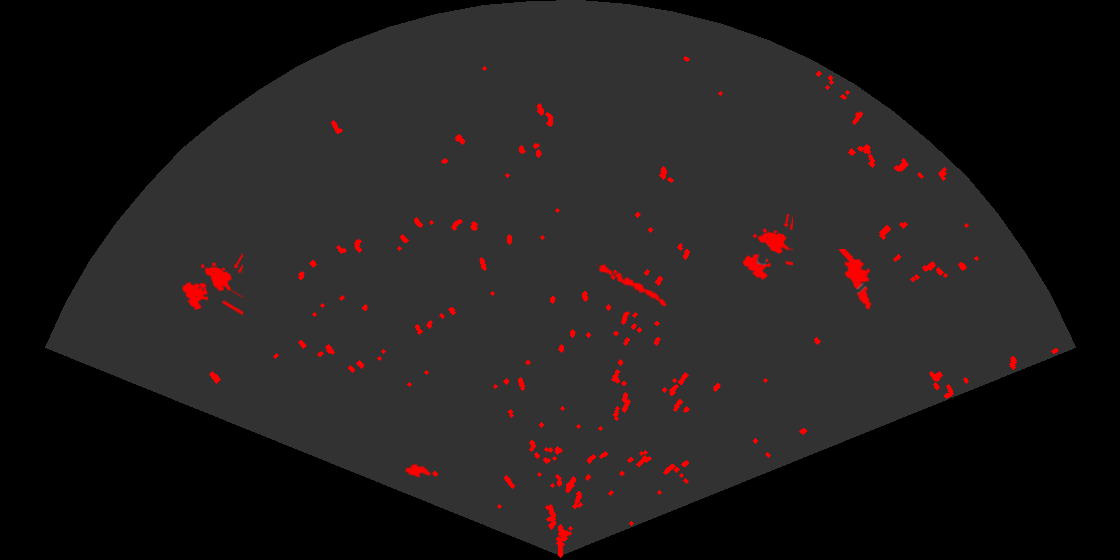AUV: (403, 460, 433, 479)
cage: (181, 251, 243, 317), (741, 214, 793, 282)
chain: (594, 261, 668, 308)
frogman: (837, 249, 873, 311)
